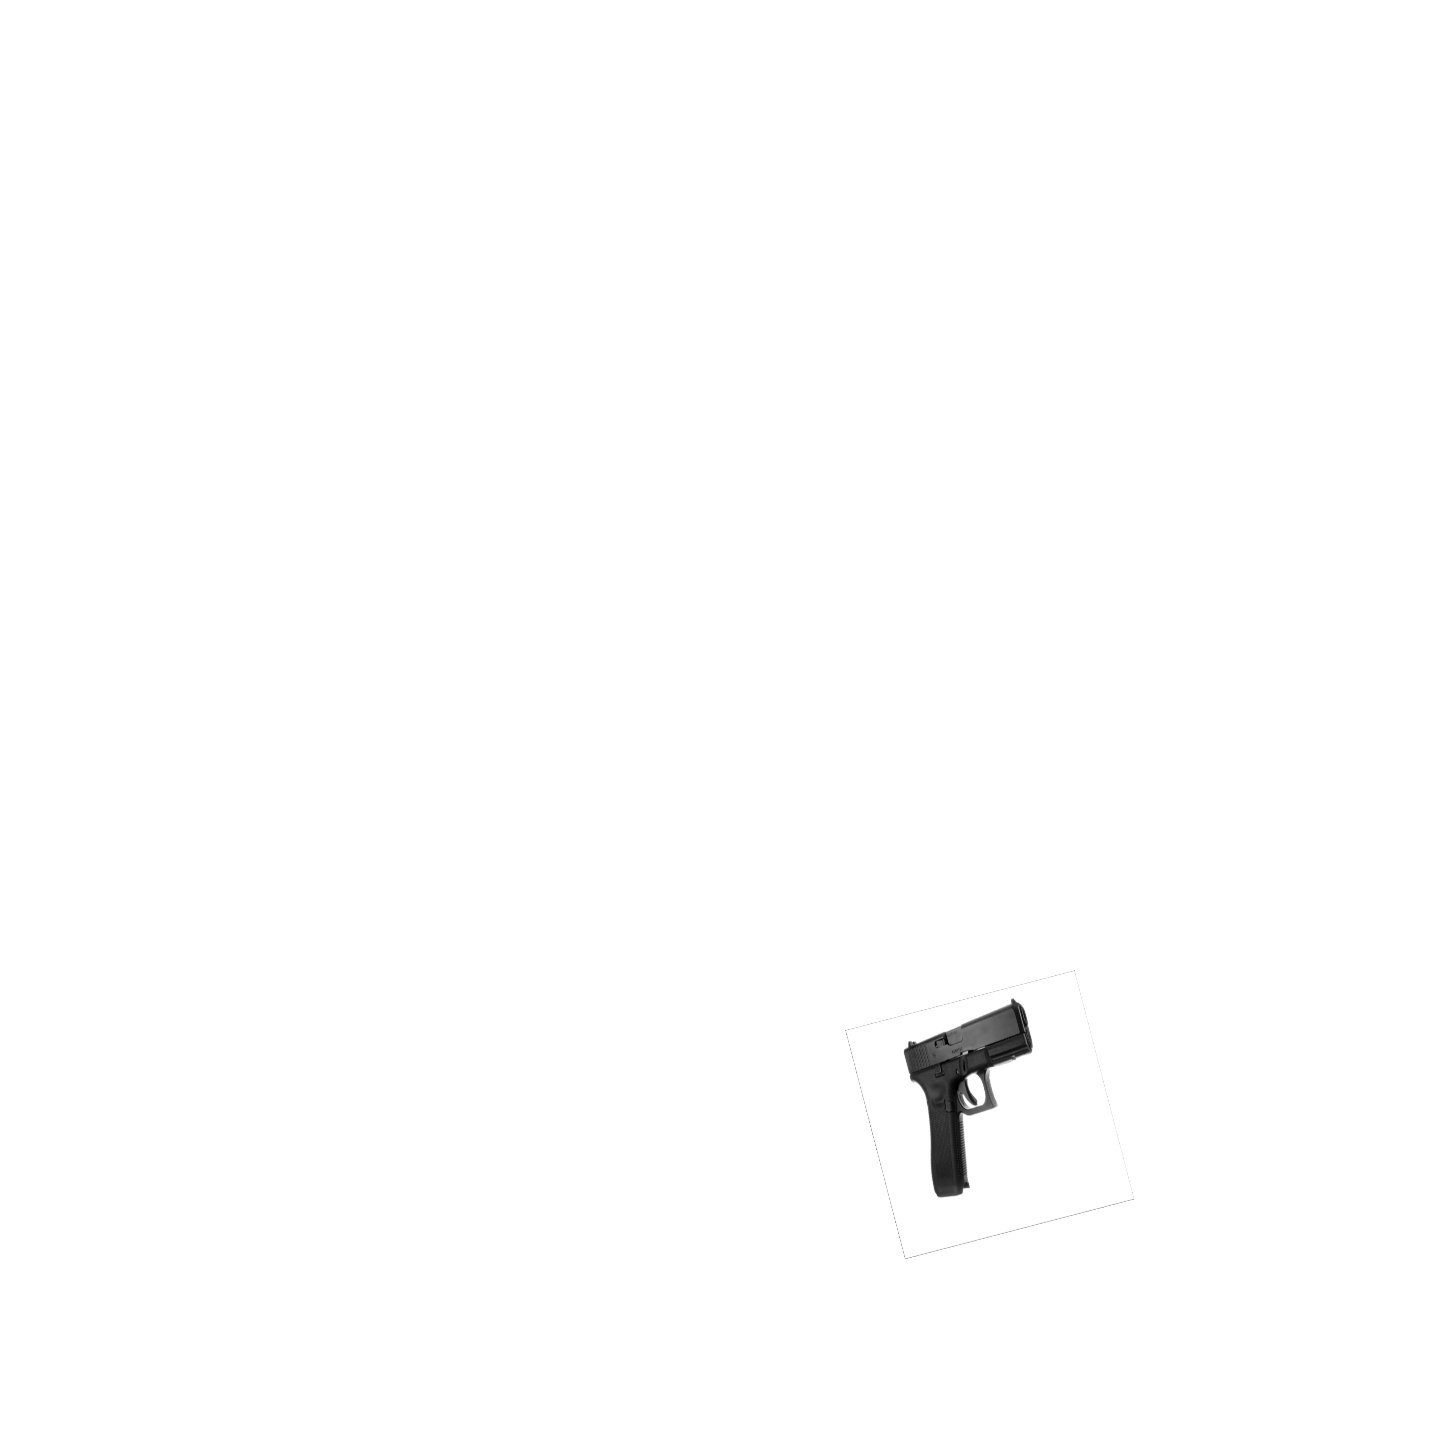gun: (895, 992, 1036, 1208)
